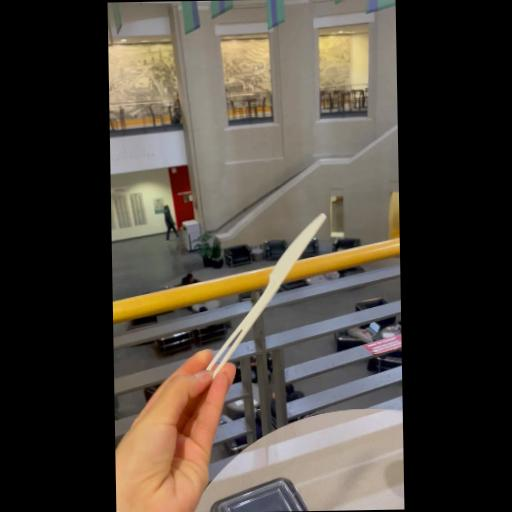utensil: (202, 214, 330, 378)
